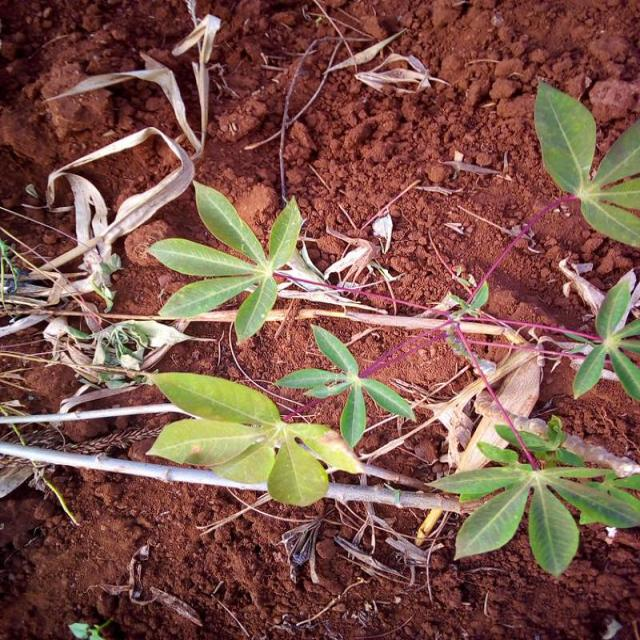cassava leaf: (426, 414, 639, 578), (143, 369, 365, 508), (533, 80, 638, 249), (533, 80, 596, 196)
